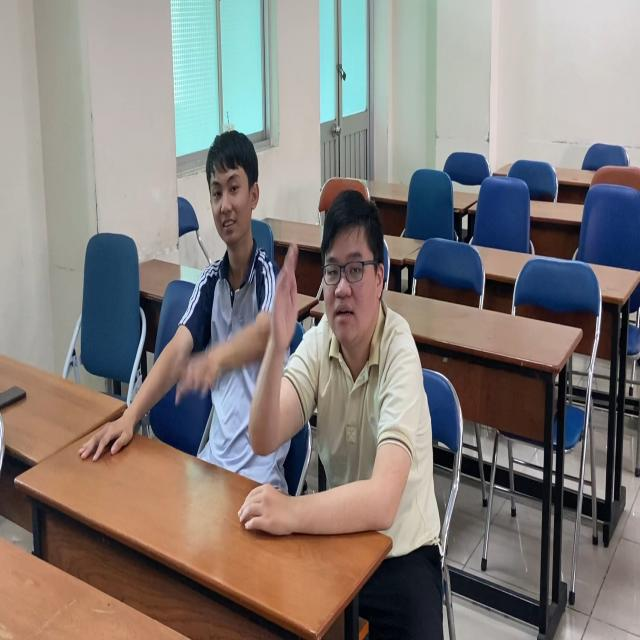raise_hand: (261, 178, 435, 547)
